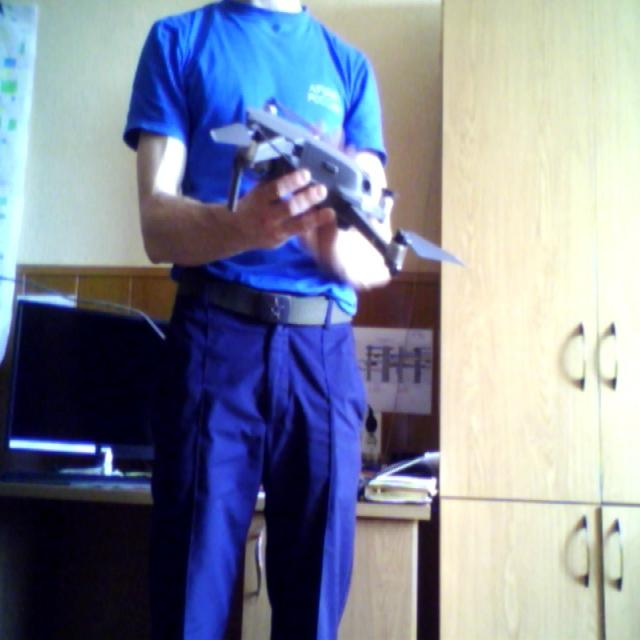drone: (203, 90, 471, 274)
